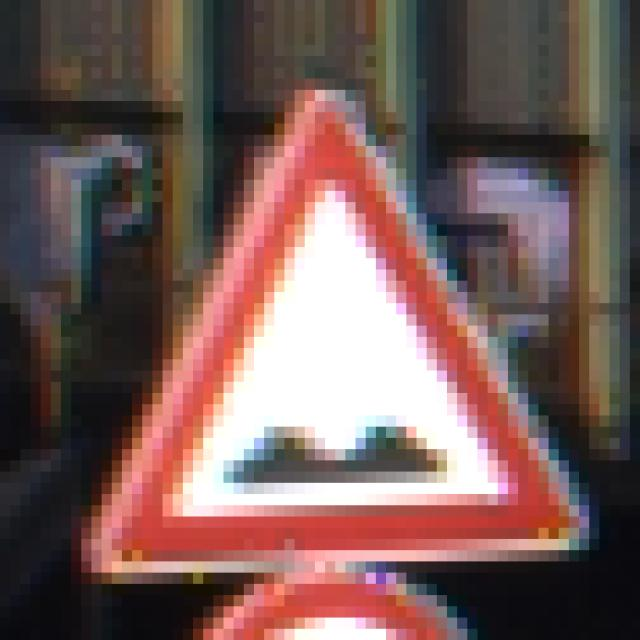HUMP_OR_ROUGH_ROAD: (68, 93, 600, 581)
